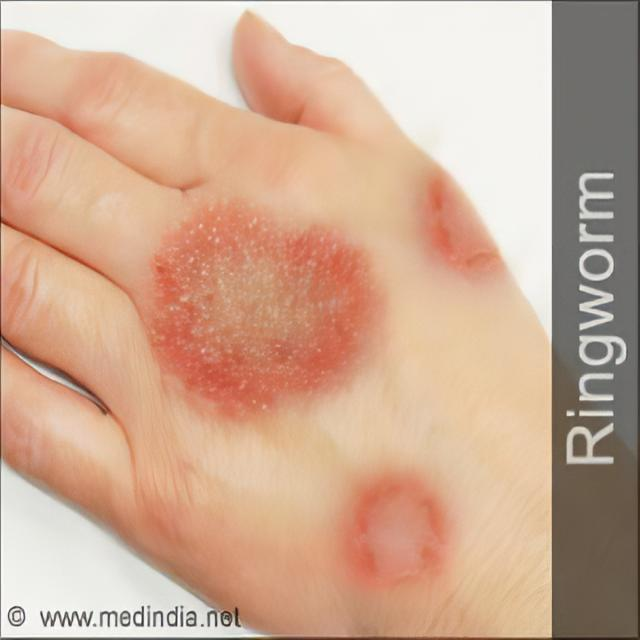tinea: (143, 207, 390, 427), (350, 466, 440, 618), (420, 159, 507, 292)
